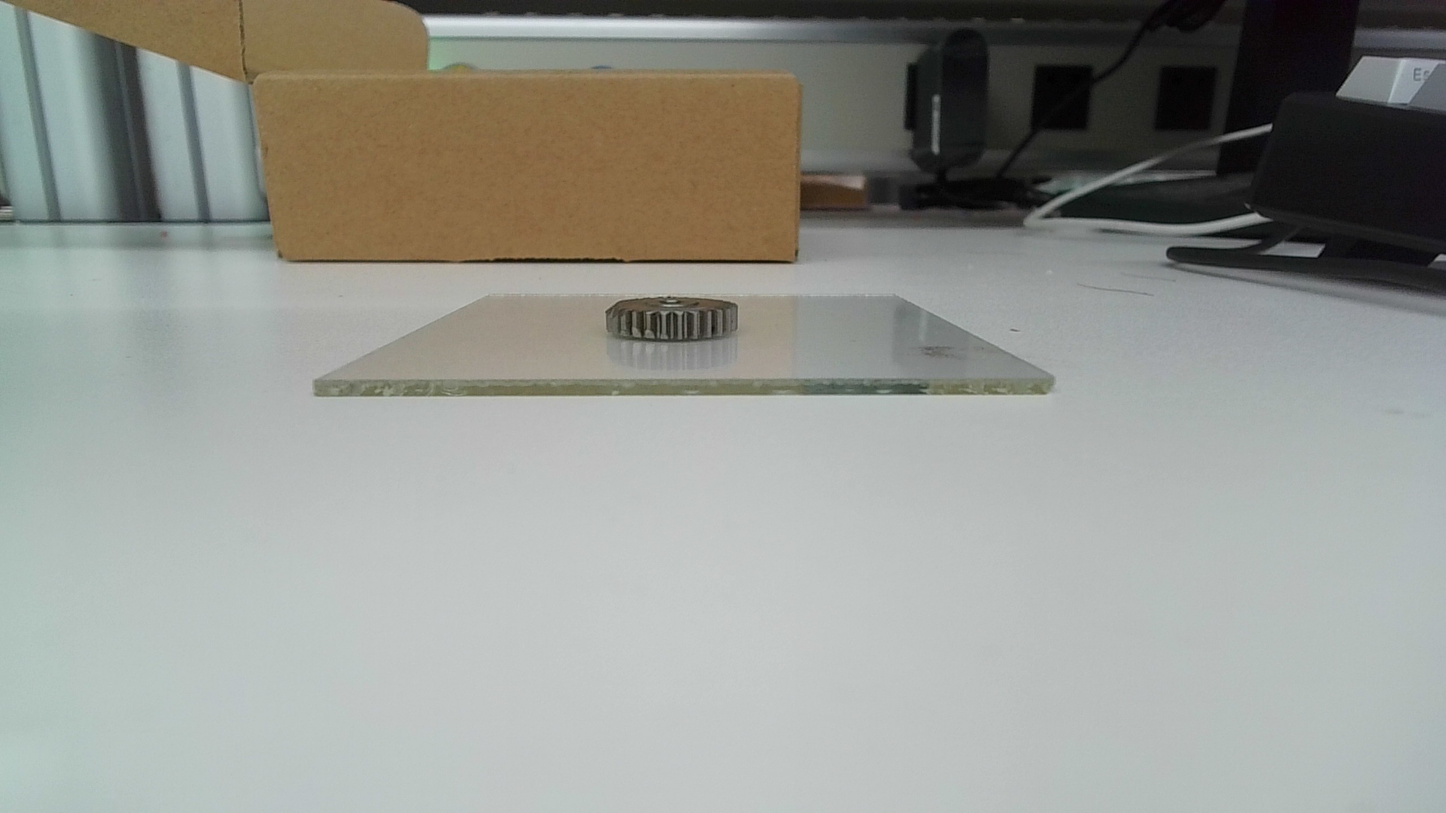gear: (604, 295, 742, 342)
